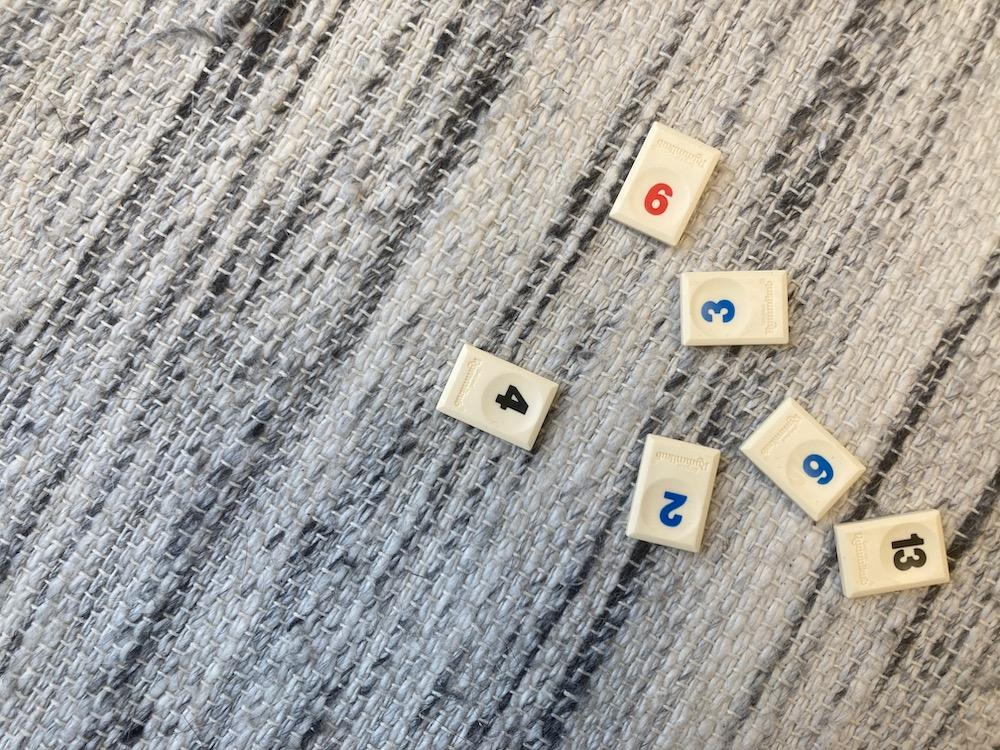black_13: (836, 510, 949, 598)
black_4: (438, 344, 559, 451)
blue_2: (627, 434, 721, 553)
blue_3: (682, 271, 789, 346)
blue_6: (740, 398, 865, 521)
red_9: (609, 123, 721, 246)
